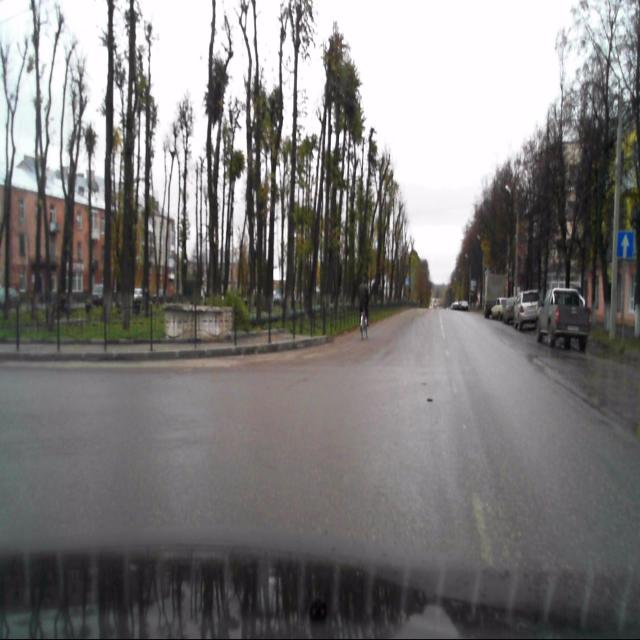road sign: (617, 230, 634, 259)
